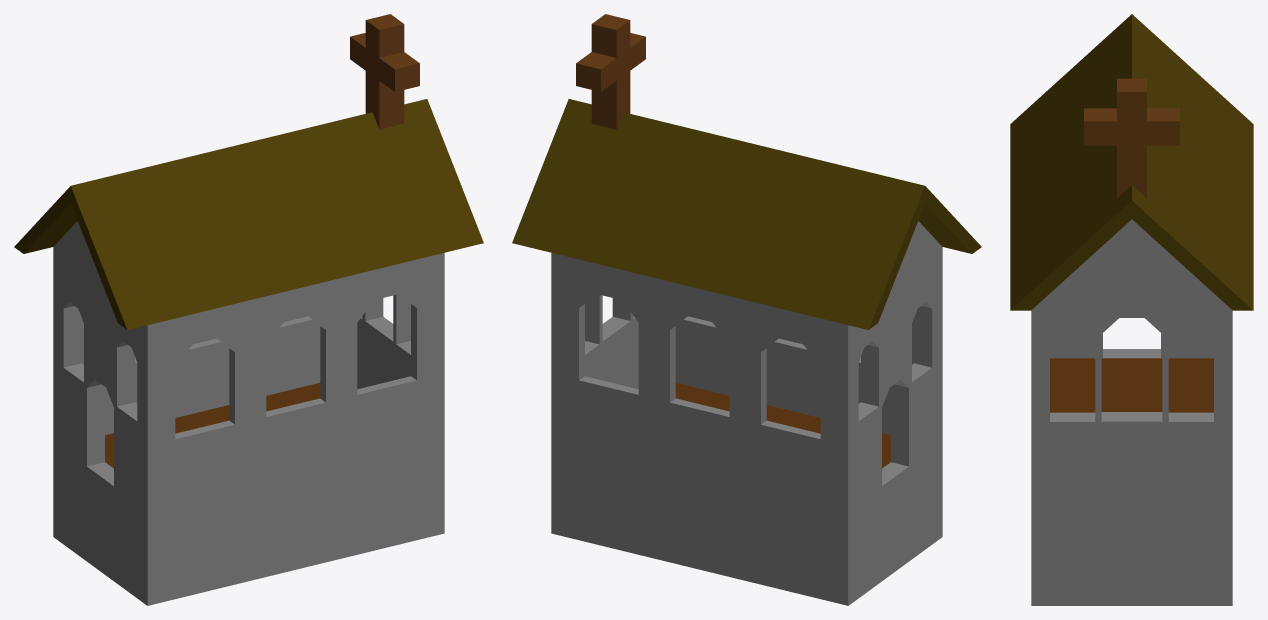
Rendered from mapchurch.fbx.
3 views of the same model, side by side, from view 1: azimuth 30°, elevation 25°; view 2: azimuth 150°, elevation 25°; view 3: azimuth 270°, elevation 25° (orthographic). The views are drawn at different scales.
Visible parts, largest first — view 1: Cube.016; view 2: Cube.016; view 3: Cube.016.
Part boxes in pixels (x1=…): Cube.016: x1=14, y1=14, x2=483, y2=605; Cube.016: x1=512, y1=14, x2=981, y2=605; Cube.016: x1=1010, y1=14, x2=1253, y2=605.
Bounding box in the file's own units: 198 × 463 × 360.
